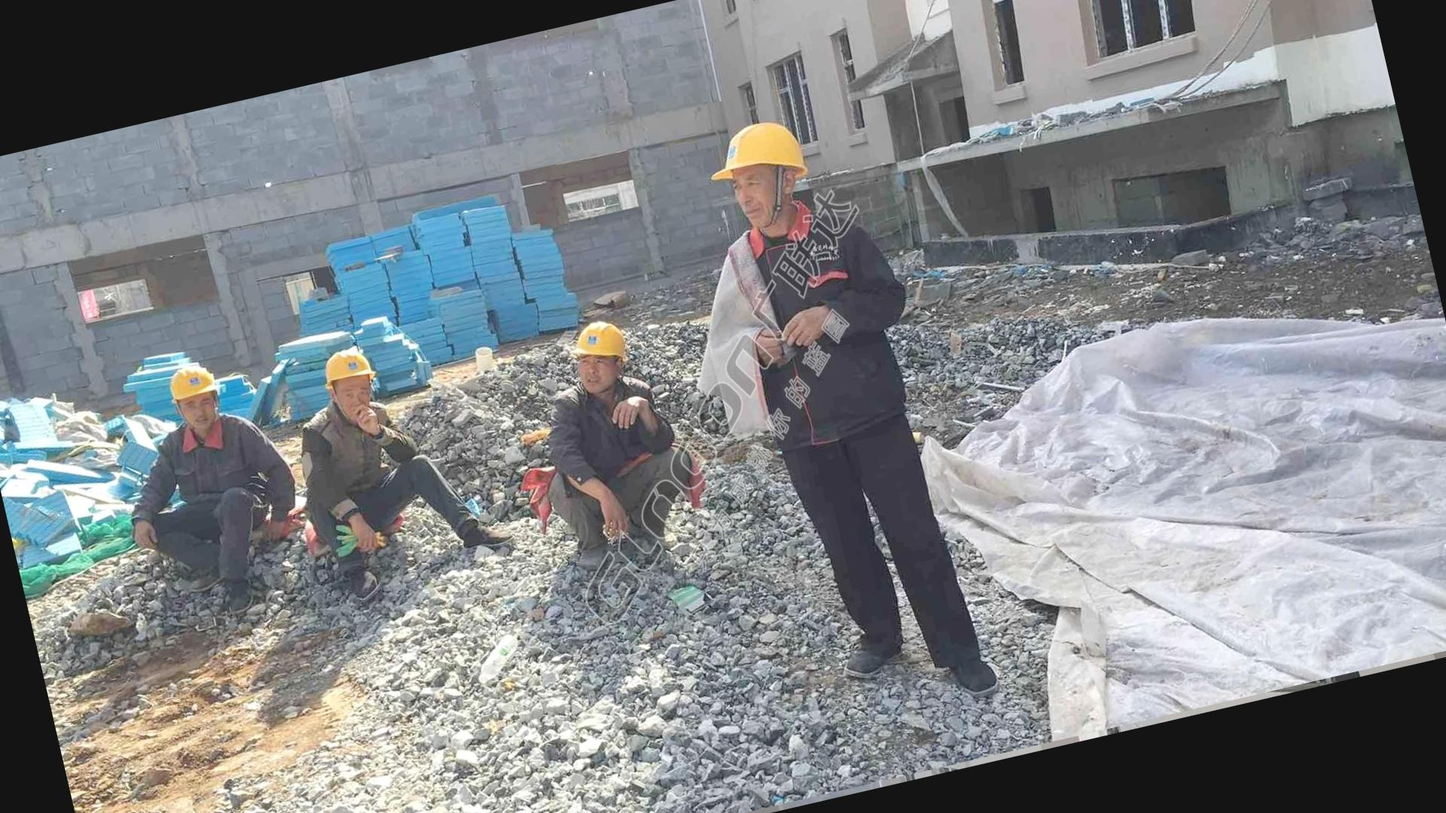helmet: (689, 105, 830, 206), (558, 305, 636, 380), (142, 349, 224, 411), (320, 338, 394, 400)
no_vest: (705, 207, 940, 388), (512, 364, 679, 484), (146, 406, 293, 507), (291, 391, 416, 507)
person: (655, 84, 1021, 744), (270, 315, 529, 616), (496, 293, 718, 588), (95, 341, 318, 624)
